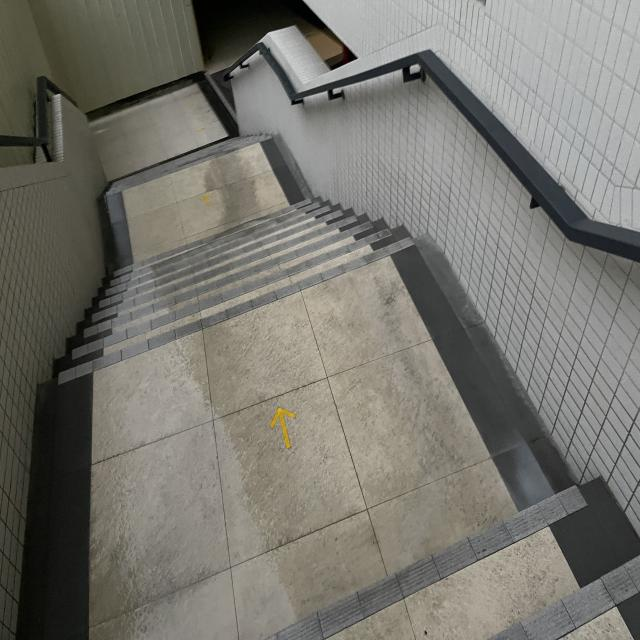Stairs: (15, 160, 444, 392), (211, 465, 640, 640), (104, 92, 330, 311)
